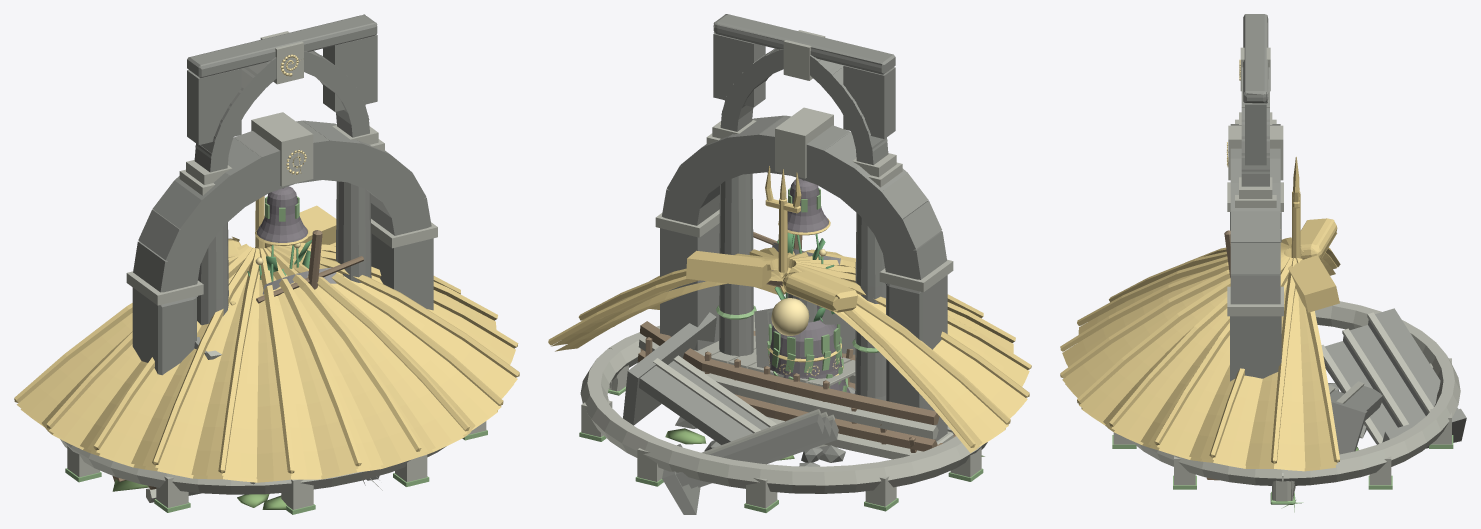
The model's file is SunkenF36Kit.fbx.
3 renders of one model, left to right at view 1: azimuth 30°, elevation 25°; view 2: azimuth 150°, elevation 25°; view 3: azimuth 270°, elevation 25°, orthographic. The views are drawn at different scales.
Visible parts, largest first — view 1: GoldenShellCanopy__GOLD, BellArch__STONE, LancetArchBay__STONE, GoldenShellCanopy__TRIM, BellArch__TRIM, LancetArchBay__TRIM, BellArch__METAL, HollinBarge__WOOD, GoldenShellCanopy__ACCENT, KelpStand__FOLIAGE, FallenStairFlight__MOSS; view 2: GoldenShellCanopy__GOLD, BellArch__STONE, LancetArchBay__STONE, GoldenShellCanopy__TRIM, FallenStairFlight__STONE, HollinBarge__WOOD, HollinBarge__TRIM, BellArch__TRIM, FallenStairFlight__TRIM, LancetArchBay__TRIM, GreatTidebell__METAL, GreatTidebell__ACCENT (+4 smaller); view 3: GoldenShellCanopy__GOLD, GoldenShellCanopy__TRIM, FallenStairFlight__STONE, BellArch__STONE, LancetArchBay__STONE, FallenStairFlight__TRIM, BellArch__TRIM, LancetArchBay__TRIM, GoldenShellCanopy__ACCENT.
Part boxes in pixels (x1,y1,x2,y2): GoldenShellCanopy__GOLD: (14,196,519,482); BellArch__STONE: (132,120,433,375); LancetArchBay__STONE: (187,14,377,325); GoldenShellCanopy__TRIM: (60,421,486,509); BellArch__TRIM: (126,112,437,305); LancetArchBay__TRIM: (179,31,384,195); BellArch__METAL: (256,186,307,242); HollinBarge__WOOD: (112,230,363,489); GoldenShellCanopy__ACCENT: (65,430,487,514); KelpStand__FOLIAGE: (247,240,311,281); FallenStairFlight__MOSS: (237,494,287,509); GoldenShellCanopy__GOLD: (548,166,1031,453); BellArch__STONE: (660,115,947,441); LancetArchBay__STONE: (713,14,895,400); GoldenShellCanopy__TRIM: (580,314,987,508); FallenStairFlight__STONE: (623,308,855,514); HollinBarge__WOOD: (637,232,955,452); HollinBarge__TRIM: (638,335,953,459); BellArch__TRIM: (655,107,953,445); FallenStairFlight__TRIM: (653,355,834,454); LancetArchBay__TRIM: (706,30,902,187); GreatTidebell__METAL: (769,305,850,392); GreatTidebell__ACCENT: (767,324,848,391); GoldenShellCanopy__GOLD: (1060,156,1340,471); GoldenShellCanopy__TRIM: (1113,301,1460,501); FallenStairFlight__STONE: (1324,308,1466,454); BellArch__STONE: (1230,124,1281,381); LancetArchBay__STONE: (1241,14,1269,186); FallenStairFlight__TRIM: (1321,312,1433,444); BellArch__TRIM: (1227,125,1283,316); LancetArchBay__TRIM: (1235,47,1276,207); GoldenShellCanopy__ACCENT: (1112,435,1453,512).
Bounding box in the file's own units: 56.9 × 50.6 × 48.79.
